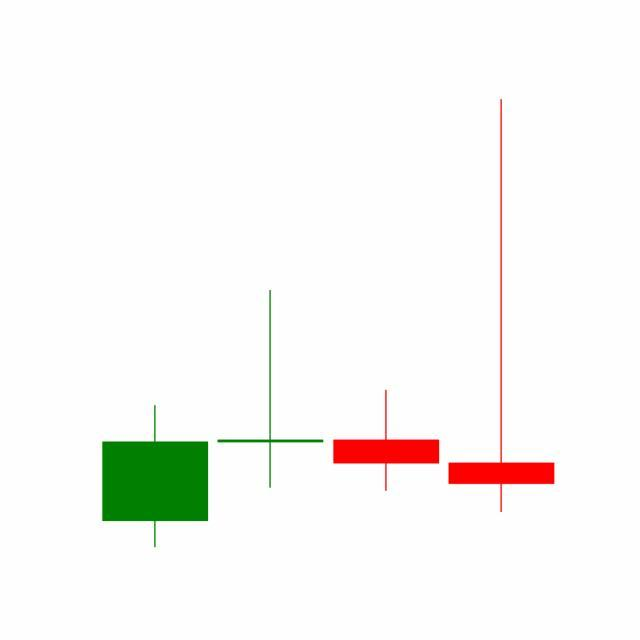Spinning Top: (444, 96, 560, 518)
